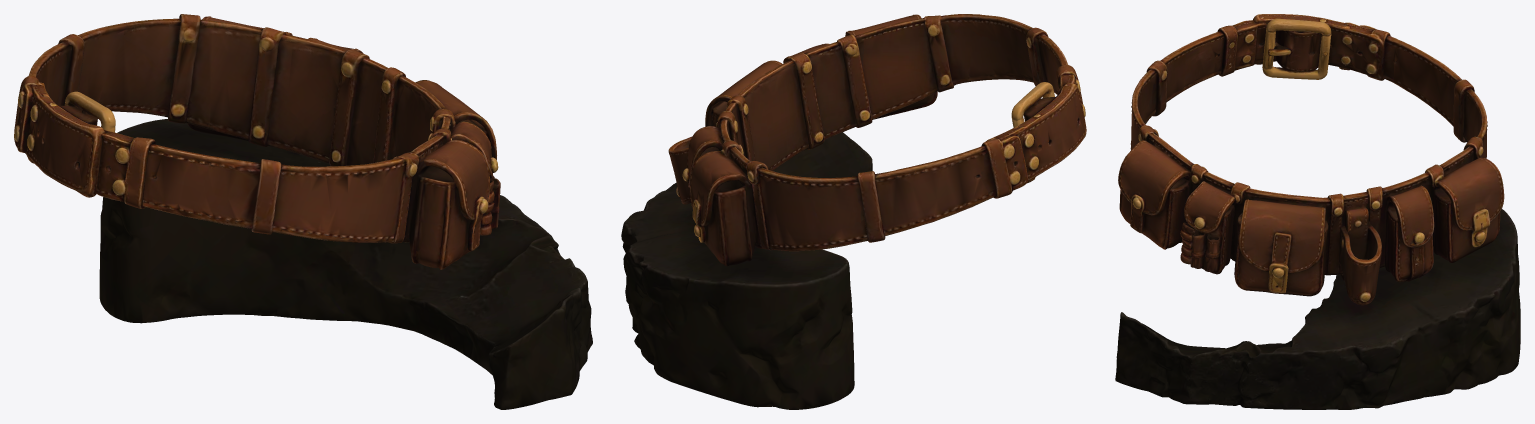
File: quartermaster-belt.glb
3 views of the same model, side by side, from view 1: azimuth 30°, elevation 25°; view 2: azimuth 150°, elevation 25°; view 3: azimuth 270°, elevation 25° (orthographic). The views are drawn at different scales.
Visible parts, largest first — view 1: tripo_node_0a6ff1a2-f3ce-4309-a8b4-9321b88f7baf; view 2: tripo_node_0a6ff1a2-f3ce-4309-a8b4-9321b88f7baf; view 3: tripo_node_0a6ff1a2-f3ce-4309-a8b4-9321b88f7baf.
Boxes of the visible parts, x1,y1,x2,y2 form: tripo_node_0a6ff1a2-f3ce-4309-a8b4-9321b88f7baf: (14,14,592,409); tripo_node_0a6ff1a2-f3ce-4309-a8b4-9321b88f7baf: (621,14,1086,409); tripo_node_0a6ff1a2-f3ce-4309-a8b4-9321b88f7baf: (1115,14,1520,409).
Size of the model in its own units: 0.9996 by 0.6358 by 0.9574.
Materials: 1 (1 with a texture image).
